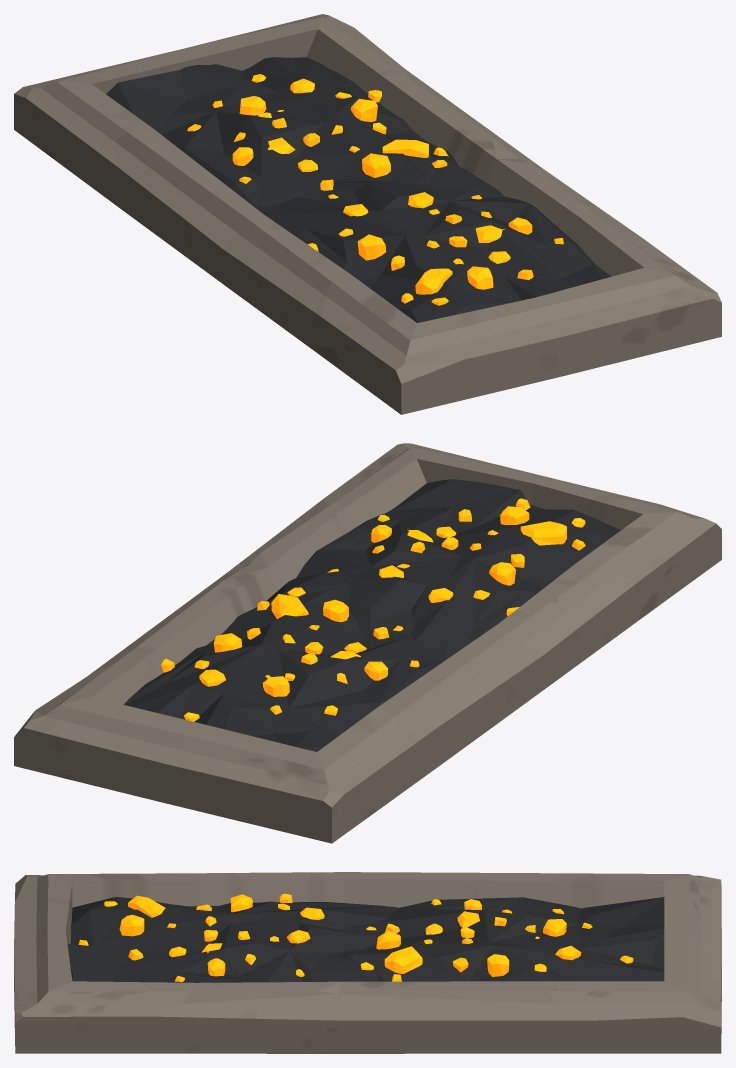
The model's file is forge_firepit.gltf.
The picture shows the model from 3 angles, top to bottom: view 1: azimuth 30°, elevation 25°; view 2: azimuth 150°, elevation 25°; view 3: azimuth 270°, elevation 25°; orthographic projection. The views are drawn at different scales.
Parts seen in each view (by area): view 1: forge_firepit; view 2: forge_firepit; view 3: forge_firepit.
Boxes of the visible parts, box(x1,y1,x2,y2) form: forge_firepit: box(14, 14, 721, 414); forge_firepit: box(14, 443, 721, 843); forge_firepit: box(14, 872, 721, 1053).
Bounding box in the file's own units: 1.97 × 0.379 × 4.16.
Materials: 1 (1 with a texture image).
